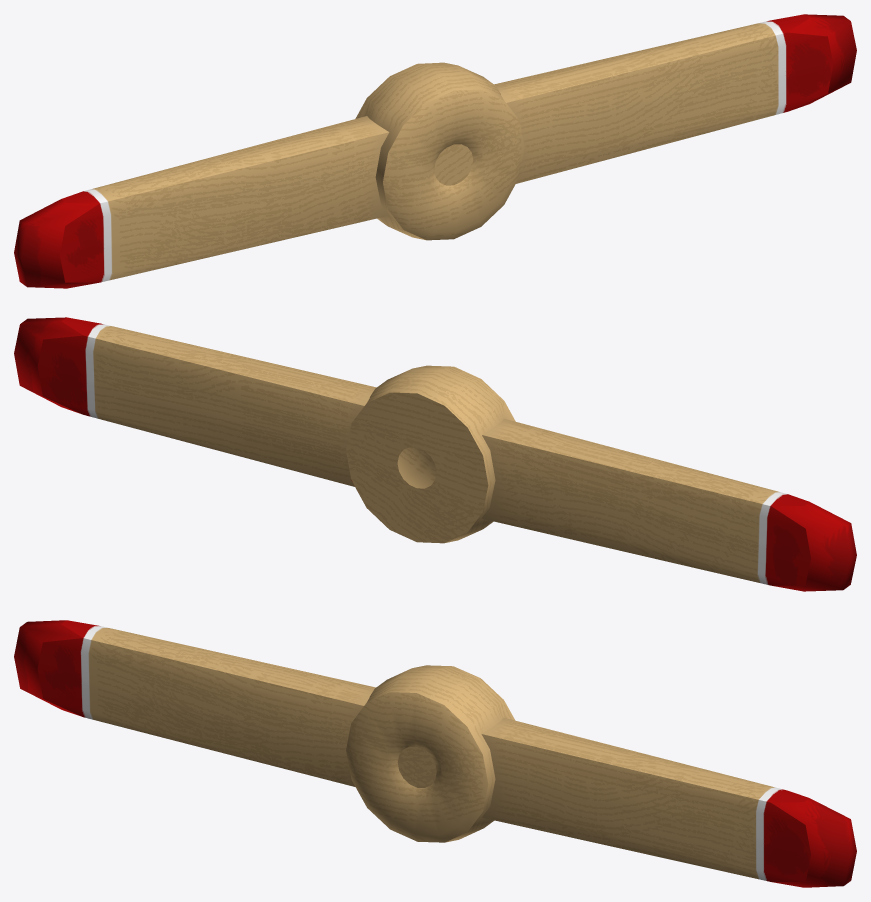
File: Prop1.FBX
The picture shows the model from 3 angles, top to bottom: view 1: azimuth 30°, elevation 25°; view 2: azimuth 150°, elevation 25°; view 3: azimuth 330°, elevation 25°; orthographic projection.
Visible parts, largest first — view 1: Prop1; view 2: Prop1; view 3: Prop1.
Boxes of the visible parts, x1,y1,x2,y2 form: Prop1: (14, 14, 856, 288); Prop1: (14, 317, 856, 591); Prop1: (14, 620, 856, 887).
Bounding box in the file's own units: 29.38 × 5.4 × 2.41.
1 material, 1 textured.
